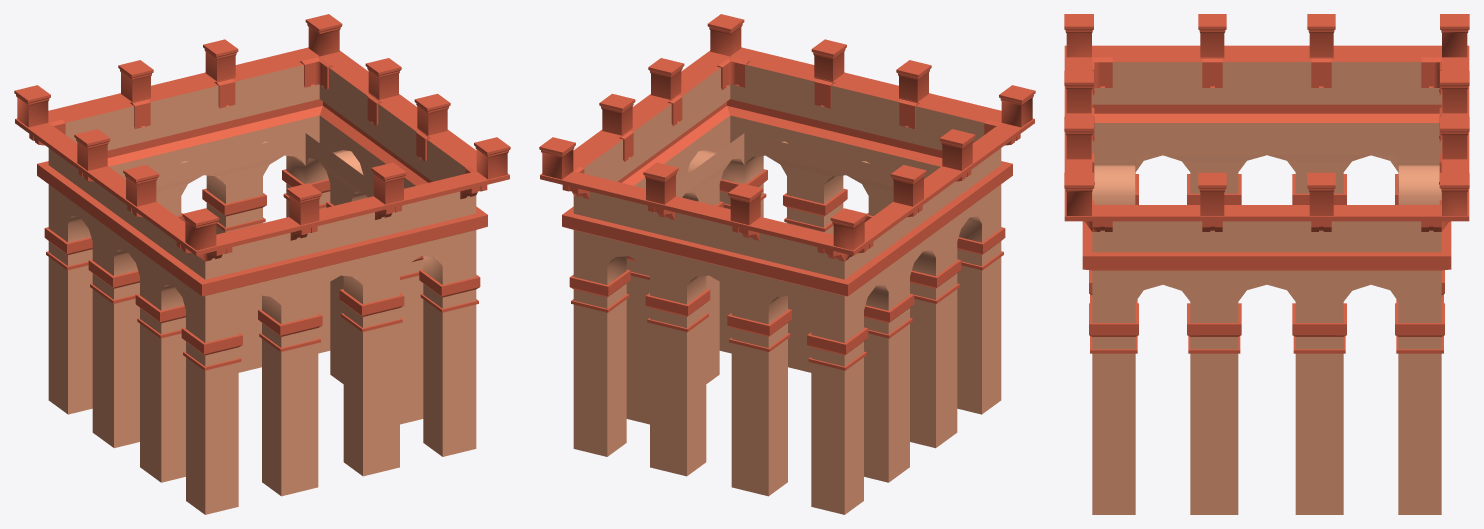
The model's file is TowerFloor5.fbx.
The picture shows the model from 3 angles, left to right: view 1: azimuth 30°, elevation 25°; view 2: azimuth 150°, elevation 25°; view 3: azimuth 270°, elevation 25°; orthographic projection. The views are drawn at different scales.
Parts seen in each view (by area): view 1: TowerFloor5; view 2: TowerFloor5; view 3: TowerFloor5.
Part boxes in pixels (left/top/right/bottom): TowerFloor5: left=14, top=14, right=510, bottom=514; TowerFloor5: left=539, top=14, right=1035, bottom=514; TowerFloor5: left=1064, top=14, right=1469, bottom=514.
Bounding box in the file's own units: 6.71 × 6.24 × 6.71.
